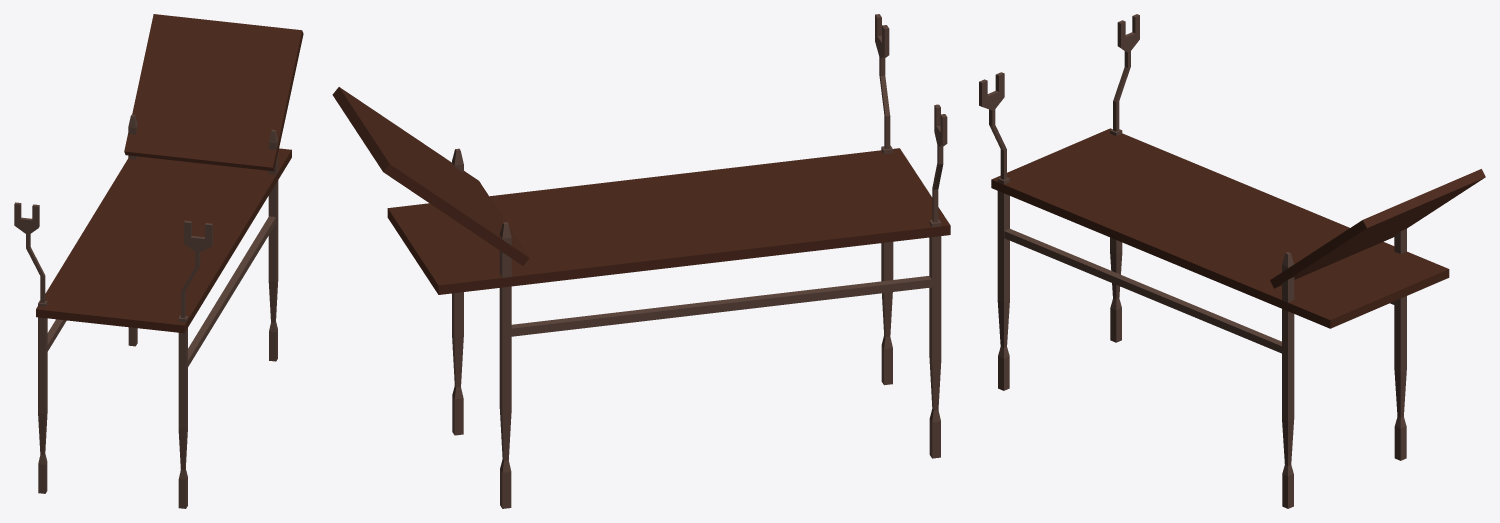
The model's file is Pregnant_bed.fbx.
3 renders of one model, left to right at view 1: azimuth 30°, elevation 25°; view 2: azimuth 150°, elevation 25°; view 3: azimuth 270°, elevation 25°, orthographic. The views are drawn at different scales.
Visible parts, largest first — view 1: Cube.082, Cube.083; view 2: Cube.082, Cube.083; view 3: Cube.082, Cube.083.
Part boxes in pixels (x1,y1,x2,y2): Cube.082: [36, 14, 303, 333]; Cube.083: [14, 114, 278, 508]; Cube.082: [332, 87, 950, 294]; Cube.083: [452, 14, 947, 508]; Cube.082: [991, 128, 1485, 328]; Cube.083: [979, 14, 1406, 508].
Size of the model in its own units: 277 by 195 by 280.
